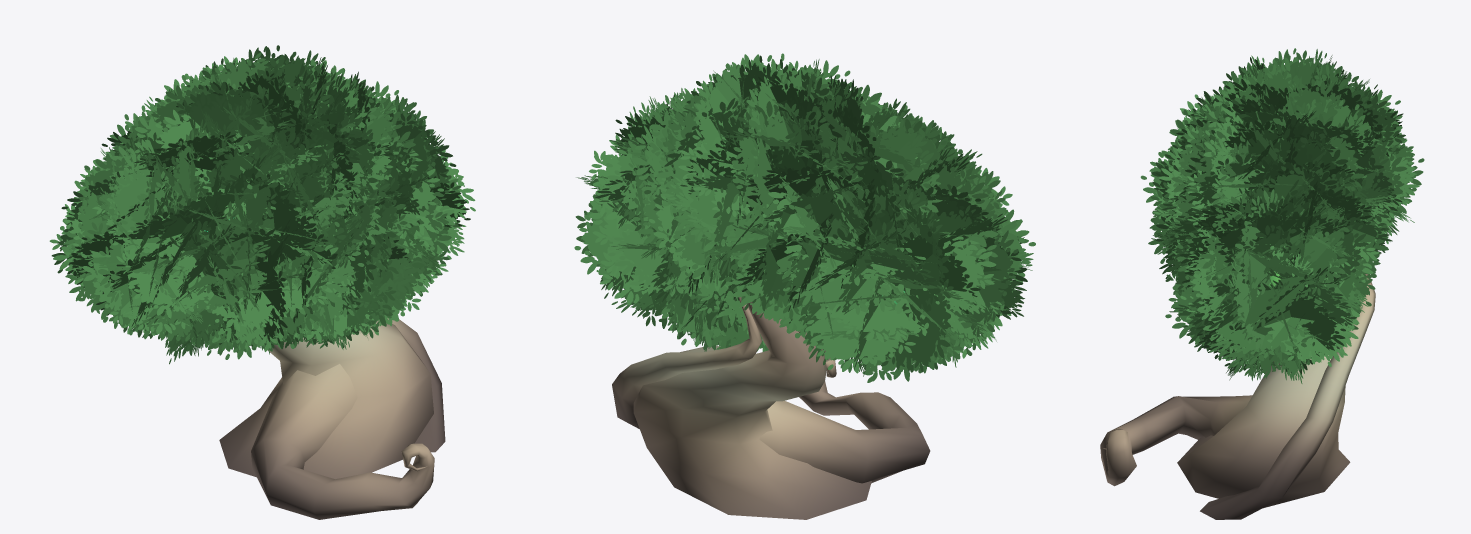
The model's file is Tree3.fbx.
3 renders of one model, left to right at view 1: azimuth 30°, elevation 25°; view 2: azimuth 150°, elevation 25°; view 3: azimuth 270°, elevation 25°, orthographic. The views are drawn at different scales.
Parts seen in each view (by area): view 1: TreeTexture1.001; view 2: TreeTexture1.001; view 3: TreeTexture1.001.
Boxes of the visible parts, bbox=[...] form: TreeTexture1.001: bbox=[49, 45, 475, 519]; TreeTexture1.001: bbox=[574, 53, 1035, 519]; TreeTexture1.001: bbox=[1100, 48, 1424, 519].
Size of the model in its own units: 698 by 639 by 490.
